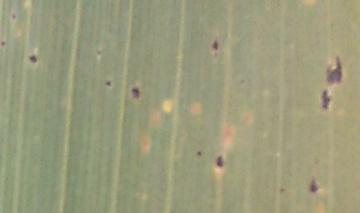tarspot: (325, 56, 342, 85), (320, 90, 331, 111), (309, 177, 319, 193), (130, 88, 141, 99), (216, 156, 225, 168), (28, 54, 38, 64), (211, 40, 218, 51), (196, 150, 203, 158), (105, 80, 112, 88), (238, 78, 246, 85), (11, 13, 17, 20), (1, 40, 6, 48), (278, 188, 286, 193), (96, 49, 102, 55)
